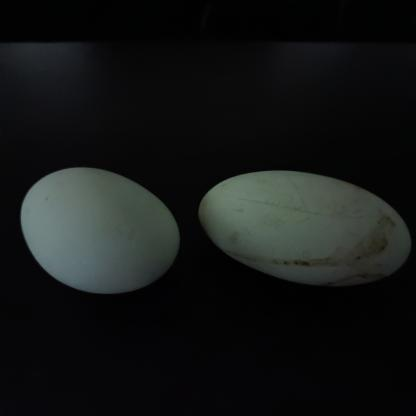egg: (200, 162, 416, 290), (14, 162, 189, 297)
